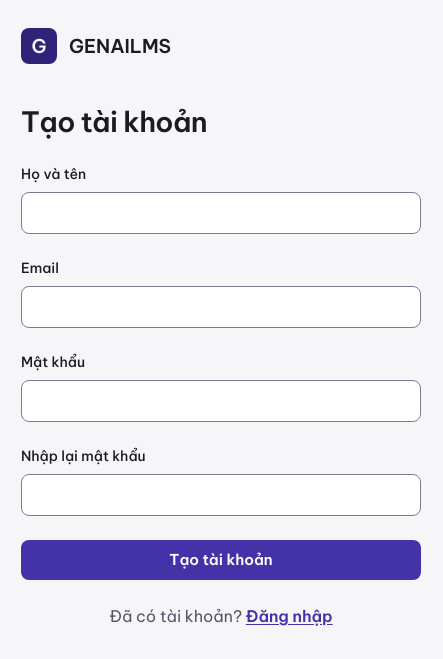
RegisterPage › points out a password that is too short without asking the server
The width and height of the screenshot is (443, 659).
Type "Nguyen Van A" into the field labelled "Họ và tên" at (221, 213), box [21, 192, 421, 234]
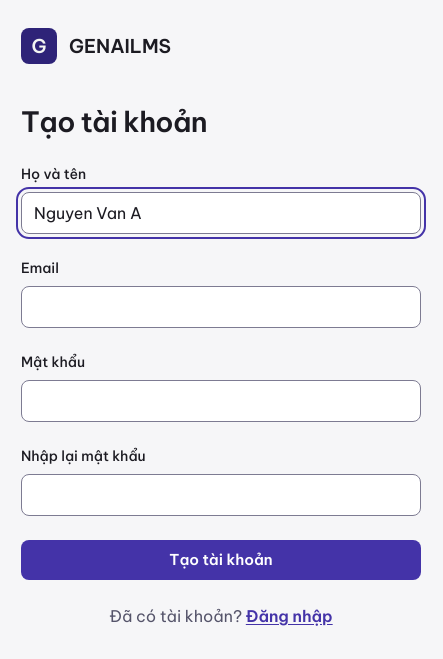
Type "teacher@example.com" into the field labelled "Email" at (221, 307), box [21, 286, 421, 328]
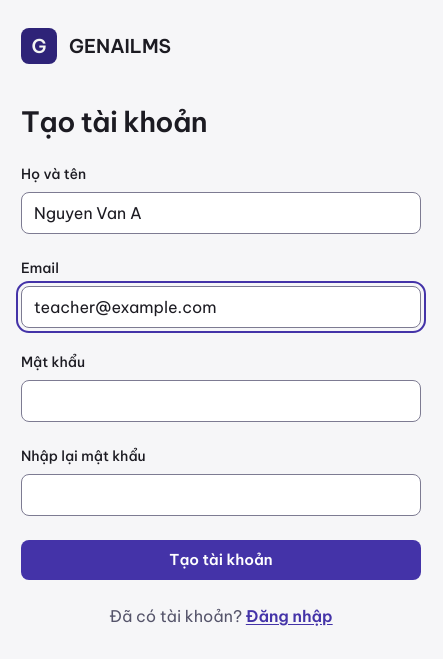
Type "short" into the password field labelled "Mật khẩu" at (221, 401), box [21, 380, 421, 422]
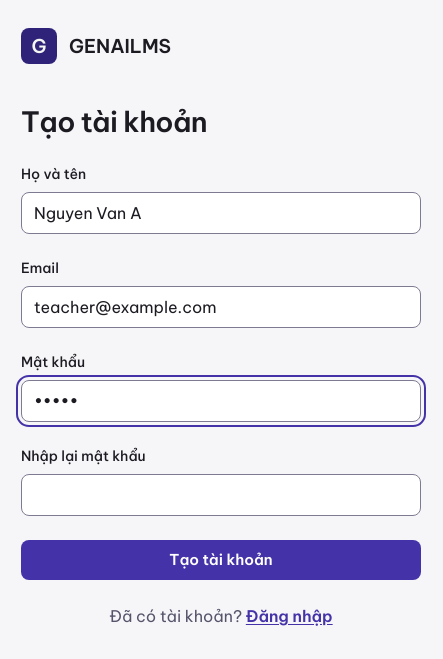
Type "short" into the password field labelled "Nhập lại mật khẩu" at (221, 495), box [21, 474, 421, 516]
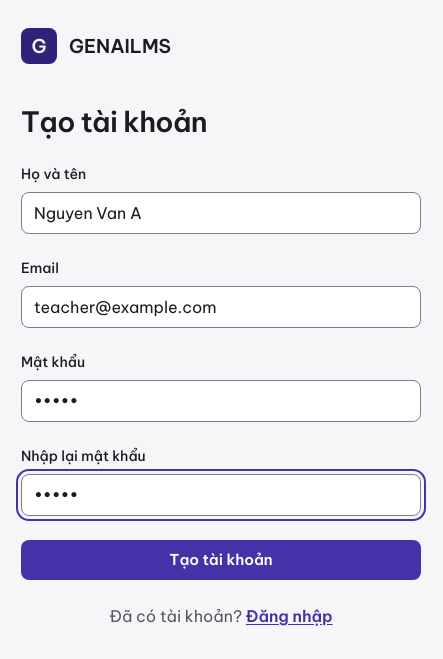
Click the button "Tạo tài khoản" at (221, 560), box [21, 540, 421, 580]
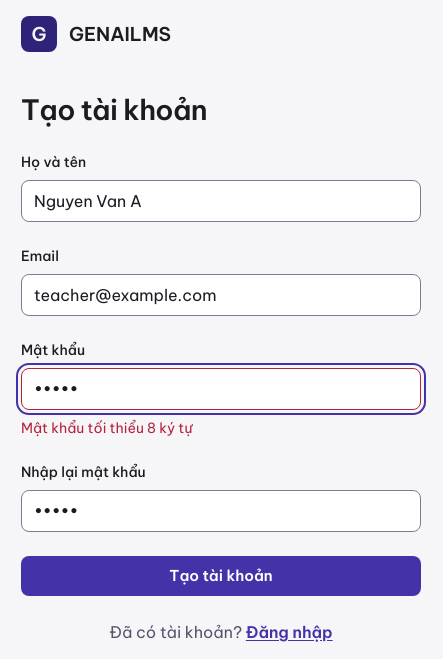
Expected: the text "Mật khẩu tối thiểu 8 ký tự" is shown, [21, 419, 193, 437]
